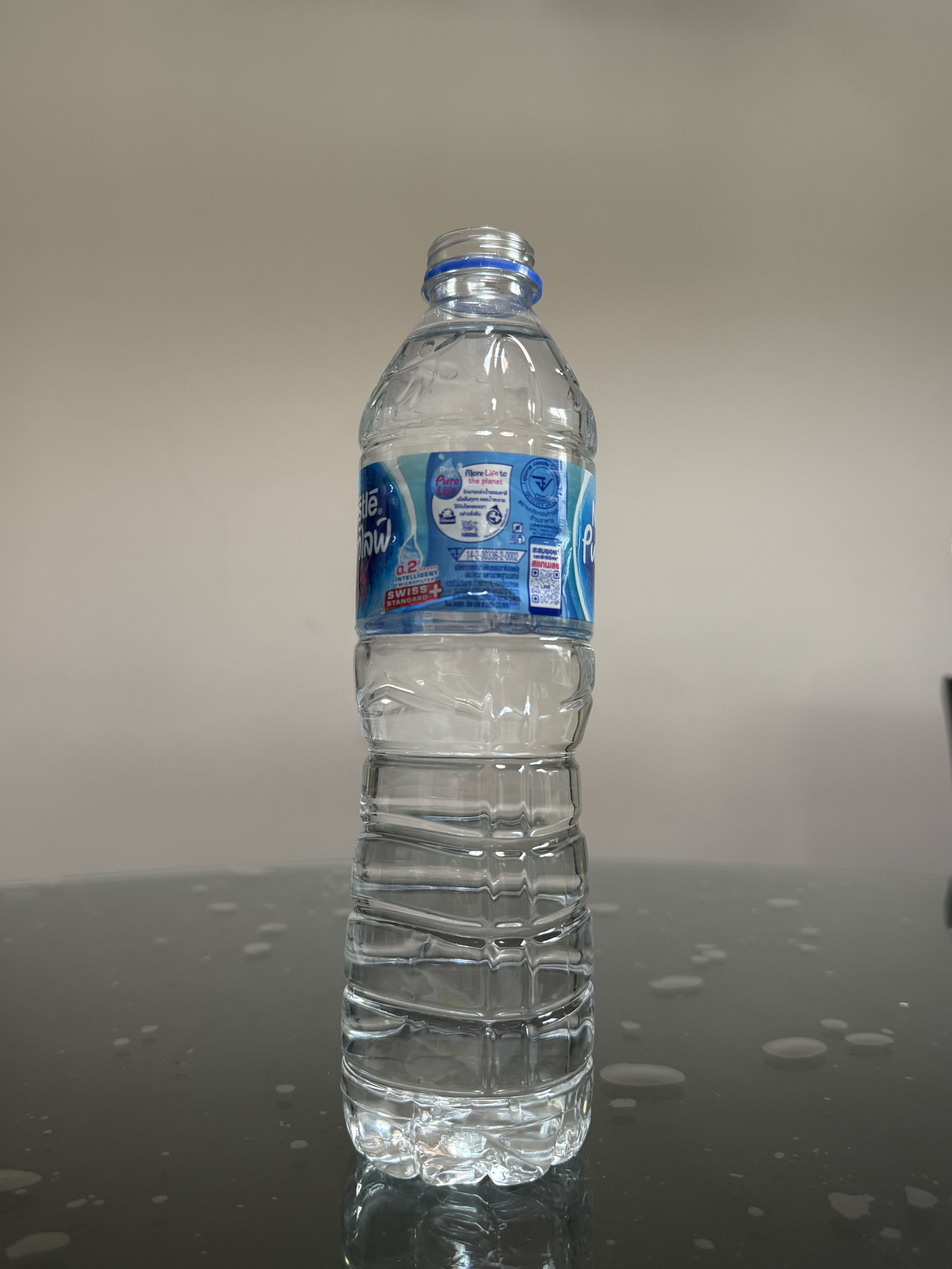no_cap: (421, 224, 543, 300)
